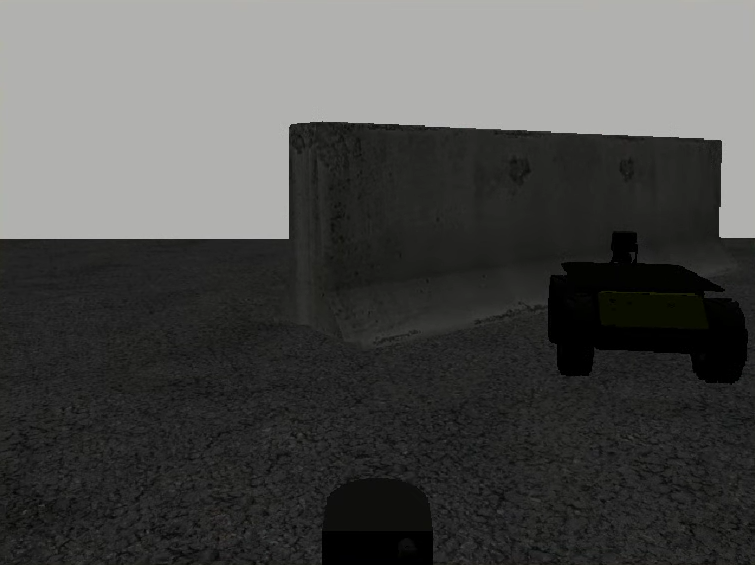husky: (548, 261, 748, 384)
